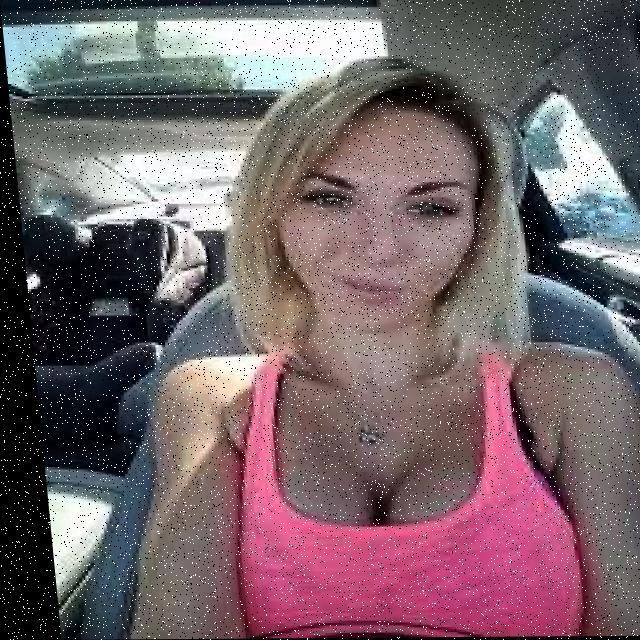noSeatbelt: (139, 324, 622, 640)
